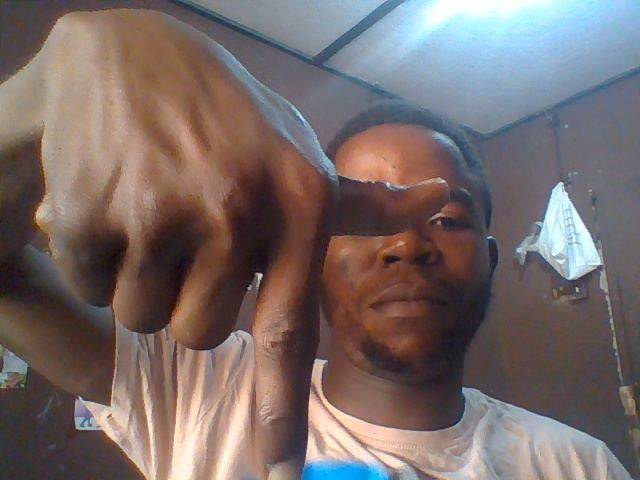Down: (33, 8, 452, 480)
